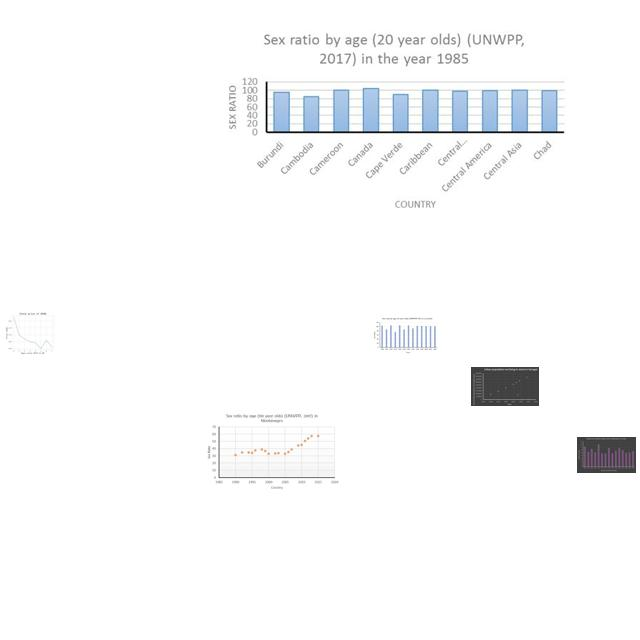Graph: (217, 25, 571, 215), (204, 411, 340, 491), (2, 310, 62, 355), (471, 367, 539, 406), (373, 316, 439, 354), (577, 437, 636, 473)
